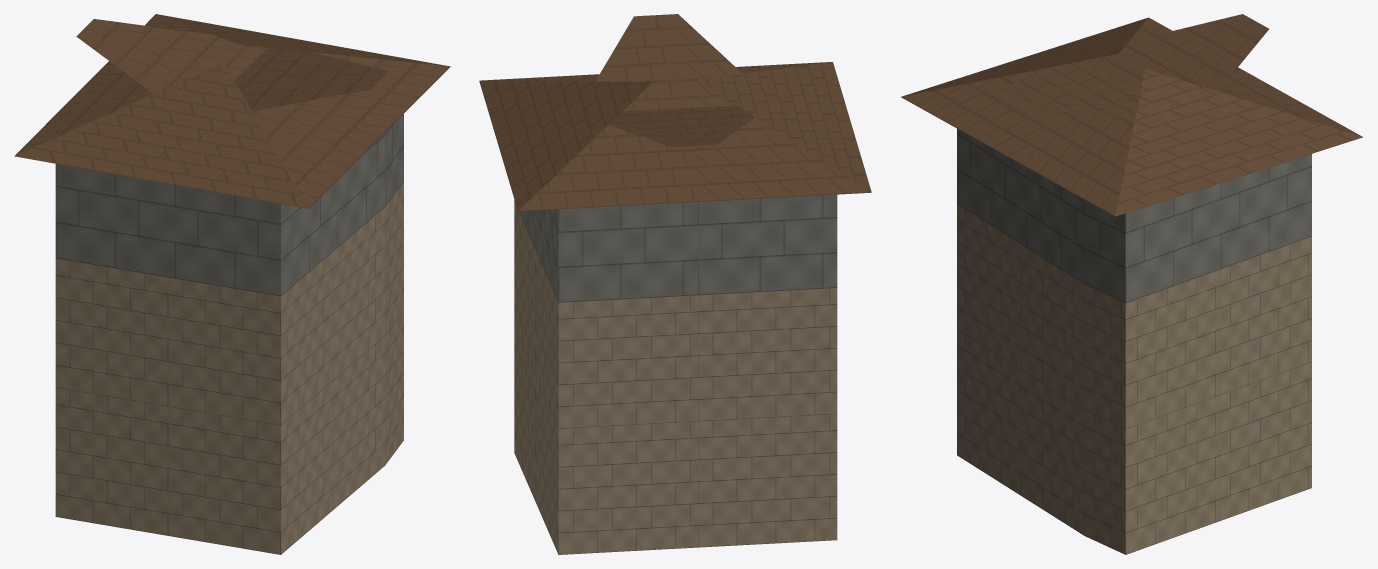
Rendered from bld_c38_-13_529.gltf.
3 renders of one model, left to right at view 1: azimuth 30°, elevation 25°; view 2: azimuth 150°, elevation 25°; view 3: azimuth 270°, elevation 25°, orthographic. The views are drawn at different scales.
Visible parts, largest first — view 1: bld_c38_-13_529; view 2: bld_c38_-13_529; view 3: bld_c38_-13_529.
Boxes of the visible parts, x1,y1,x2,y2 form: bld_c38_-13_529: (14,14,450,554); bld_c38_-13_529: (479,14,871,554); bld_c38_-13_529: (901,14,1362,554).
Bounding box in the file's own units: 7.64 × 7.4 × 7.51.
Materials: 3 (3 with a texture image).
